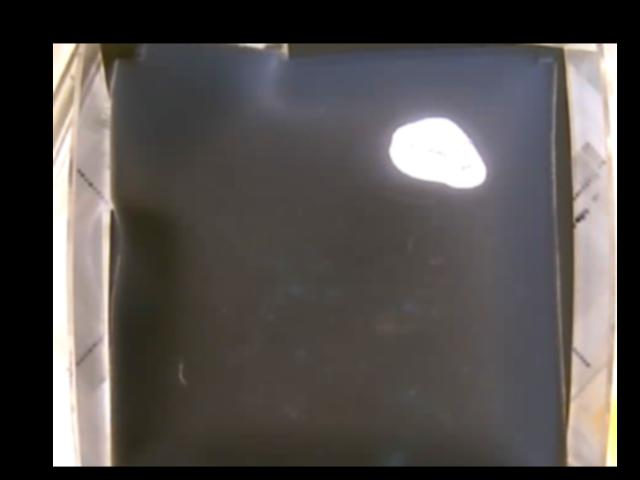Pebble: (387, 116, 486, 189)
